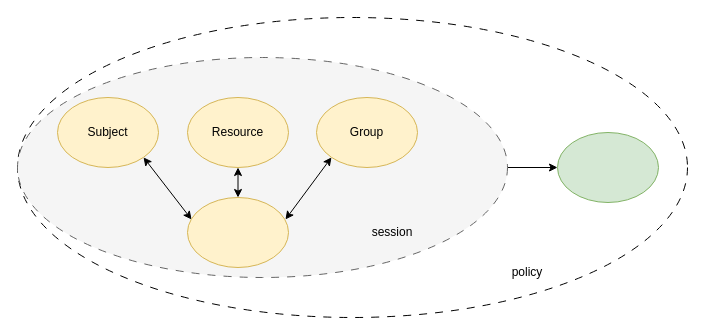
This 705x335 diagram has some shape labels left out. Here are the shapes that lost their labels. From the top down, the centre of each, then its label:
(607,167): action
(237,232): Attribute
